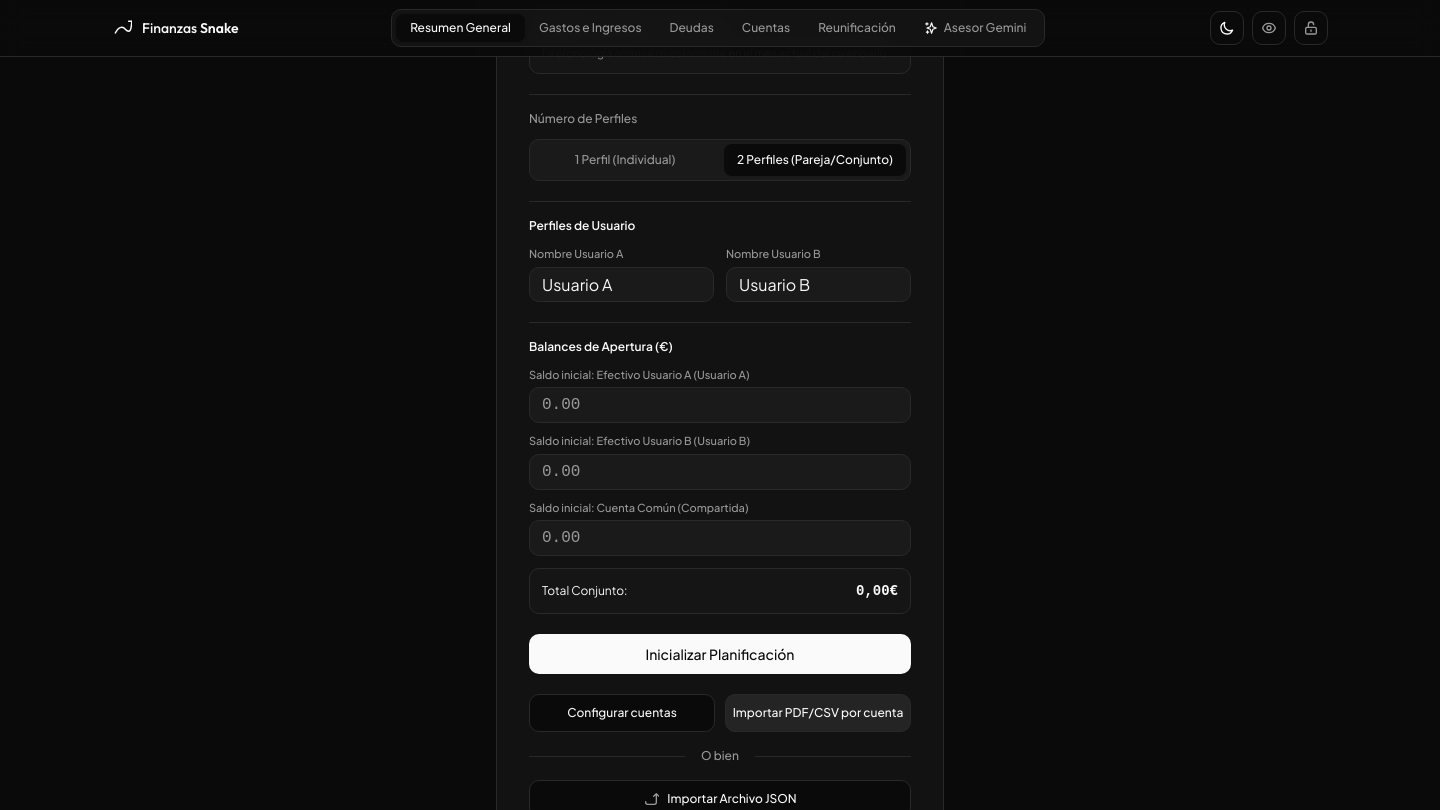
Scenario: onboarding inicial › debe permitir importar PDF/CSV por cuenta desde cero con saldos en blanco
(page scrolled)
What coordinates should you click on to do the following:
click the button "Importar PDF/CSV por cuenta"
I would click on:
 (818, 713)
Its box is [725, 694, 911, 732].
(page scrolled)
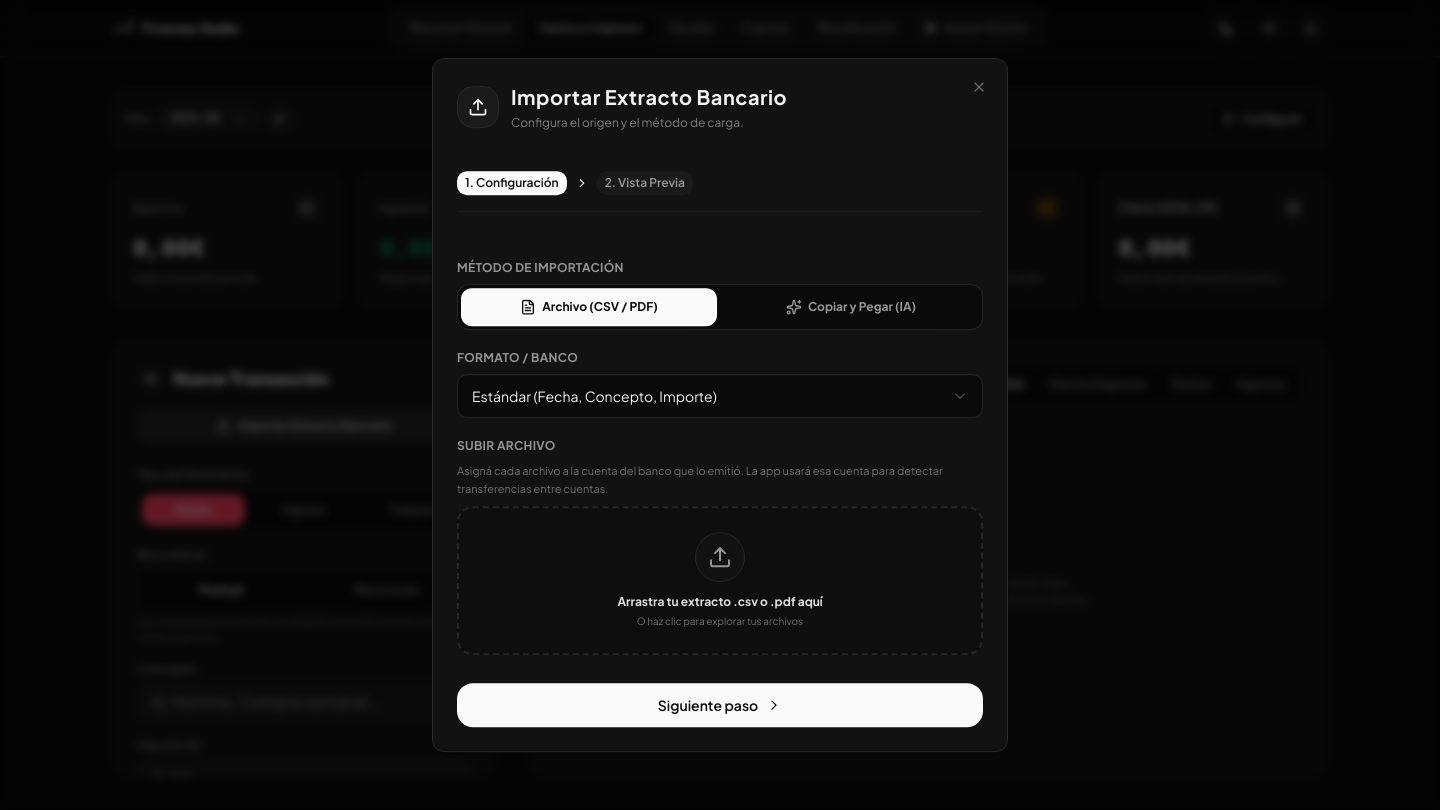
Now the dialog shows "Importar Extracto Bancario", box [511, 84, 787, 109]
